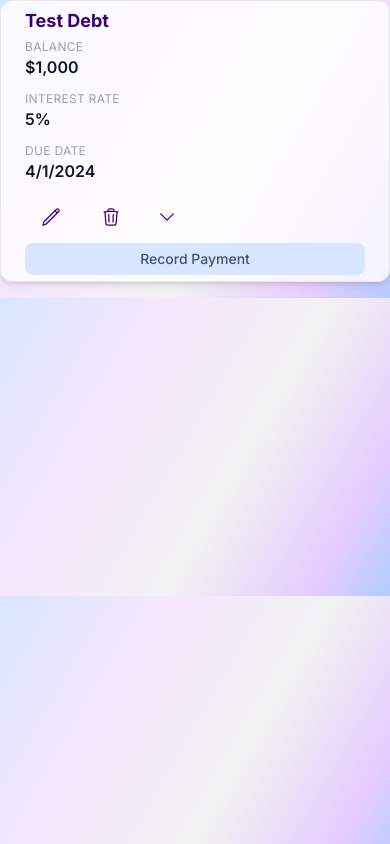
Test: DebtCard › shows "No payments yet" when there are no payments
Step 1. Click the text "Test Debt" → (67, 20), box top-left (25, 10), bottom-right (109, 31)
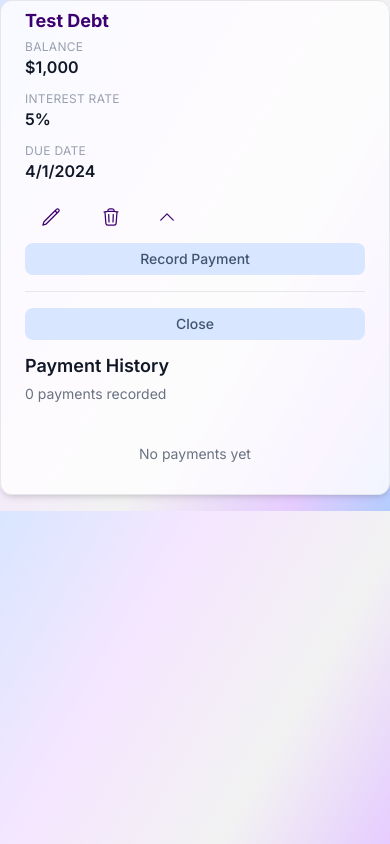
Expected: the text "No payments yet" is shown, top-left (139, 445), bottom-right (251, 462)
